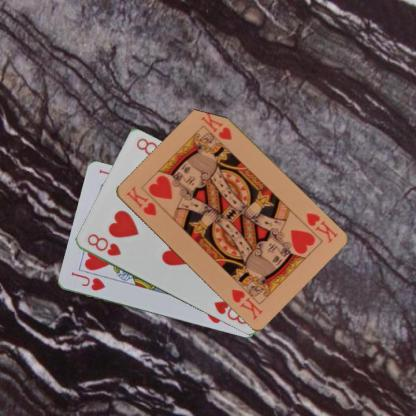8h: (84, 231, 122, 258)
Jh: (68, 270, 106, 292)
Kh: (302, 209, 339, 244), (124, 183, 159, 218)
